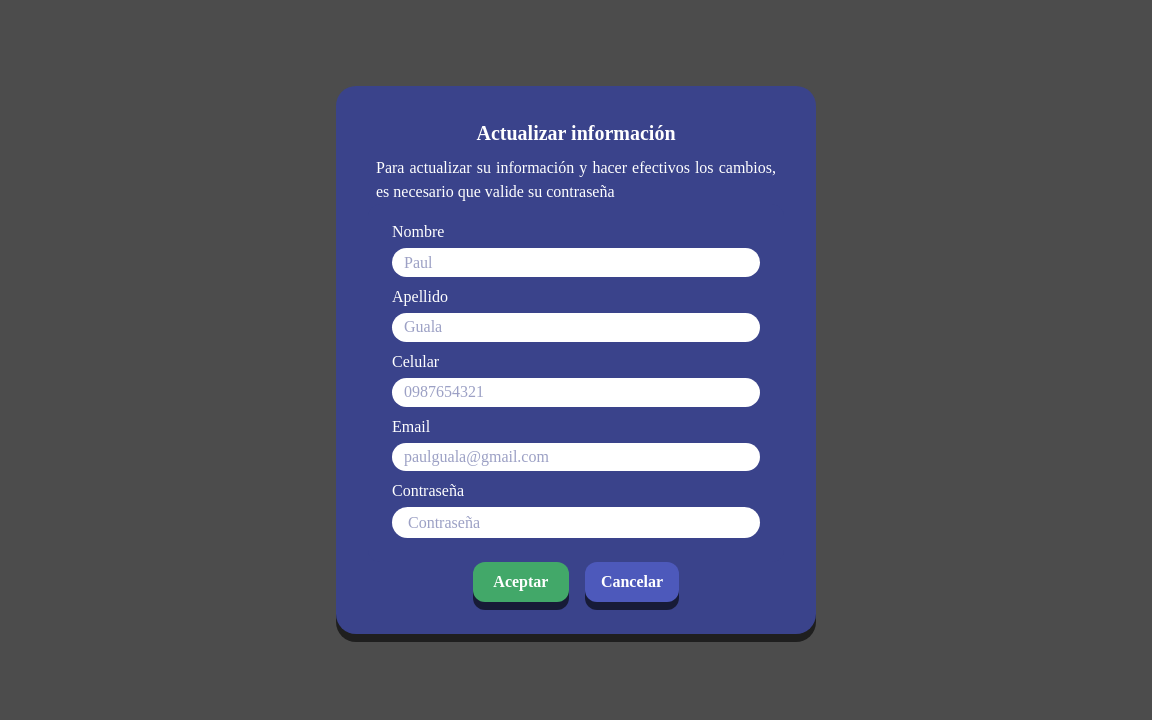
Scenario: Display a warning when the user enter text into the cellphone input
Type "Texto" into the field with placeholder "0987654321". click: (576, 392)
box: top-left (392, 378), bottom-right (760, 407)
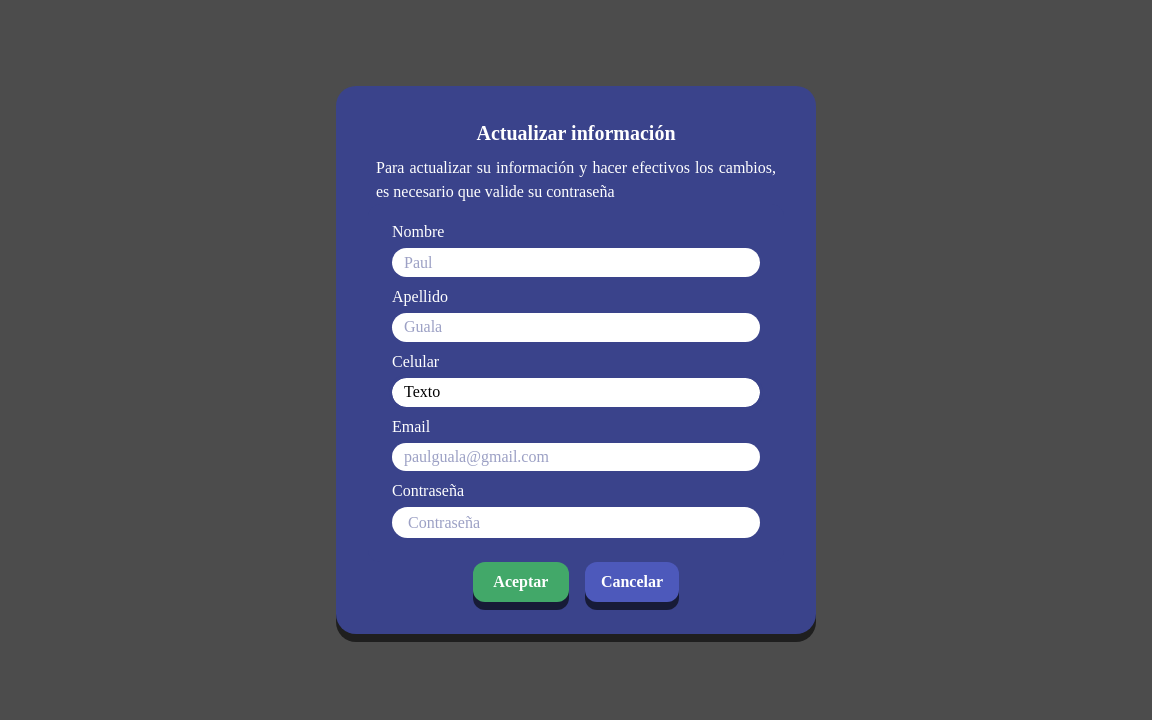
Click the button "Aceptar". click: (521, 582)
box: top-left (473, 562), bottom-right (569, 602)
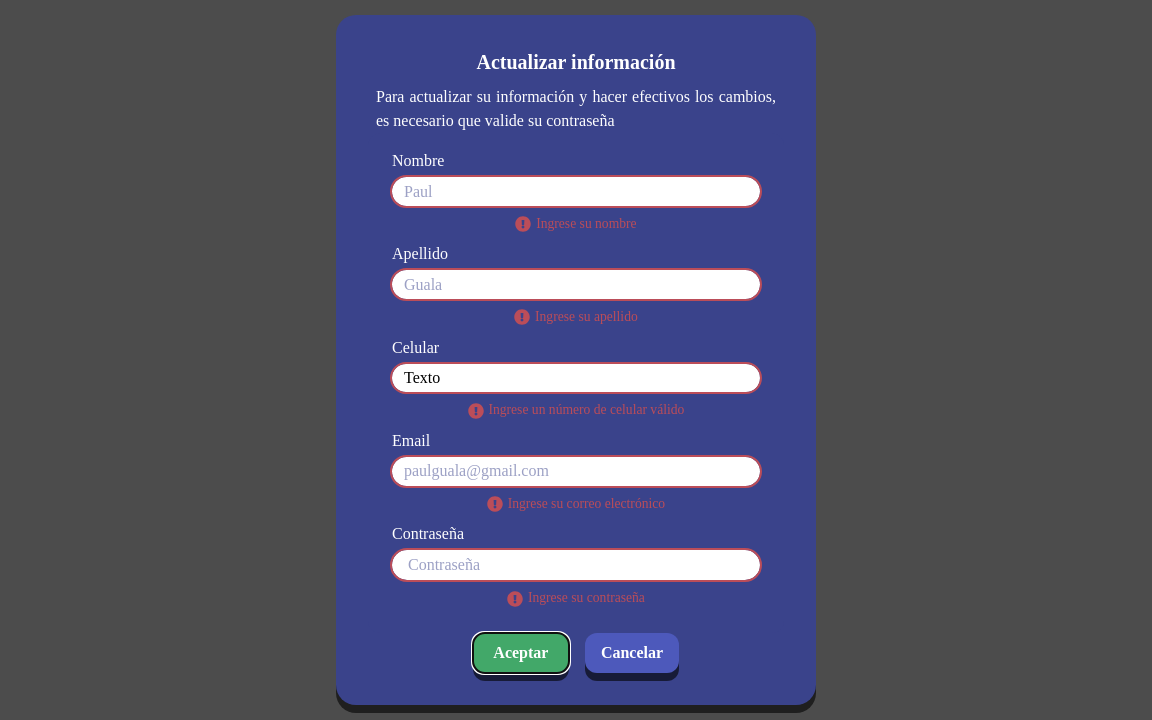
Check: the text "Ingrese un número de celular válido" is shown, box top-left (488, 400), bottom-right (684, 421)
